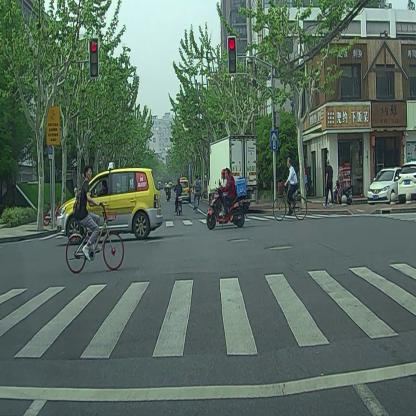Red Light: (90, 36, 100, 78), (227, 37, 237, 73)
